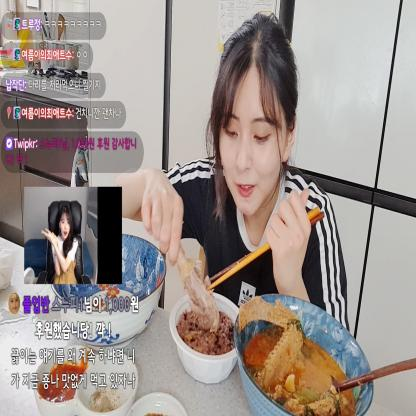donation: (8, 187, 139, 393)
streamer: (106, 10, 350, 338)
